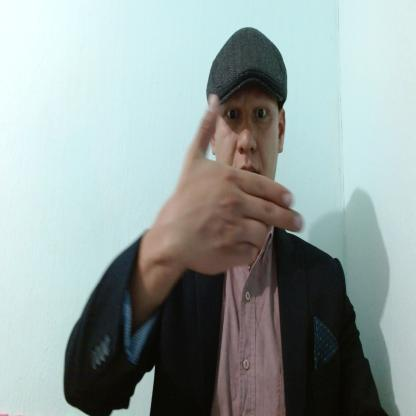H: (177, 96, 304, 274)
